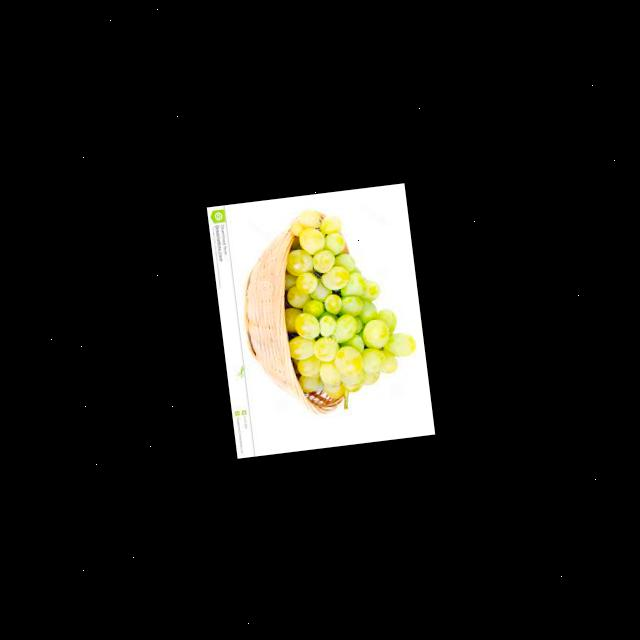grape: (272, 198, 423, 414)
